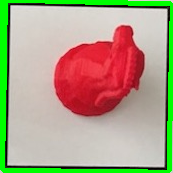Red Knight: (44, 18, 149, 119)
